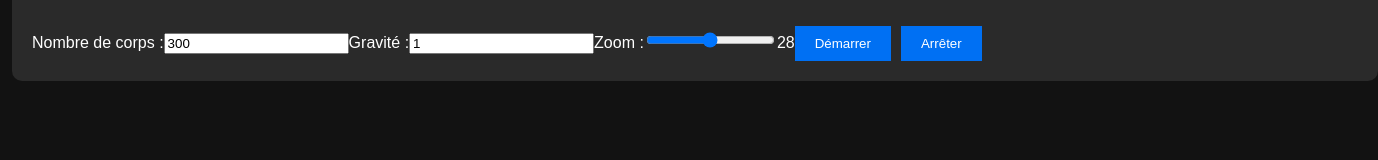
Test: Controls Component › clicking 'Démarrer' starts the simulation
What coordinates should you click on to do the following:
click the button "Démarrer"
I would click on:
 (843, 44)
Its box is [795,26,891,61].
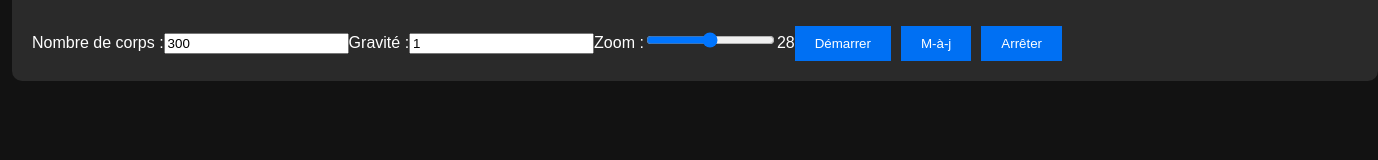
Result: the button "M-à-j" is shown at [901,26,971,61]
